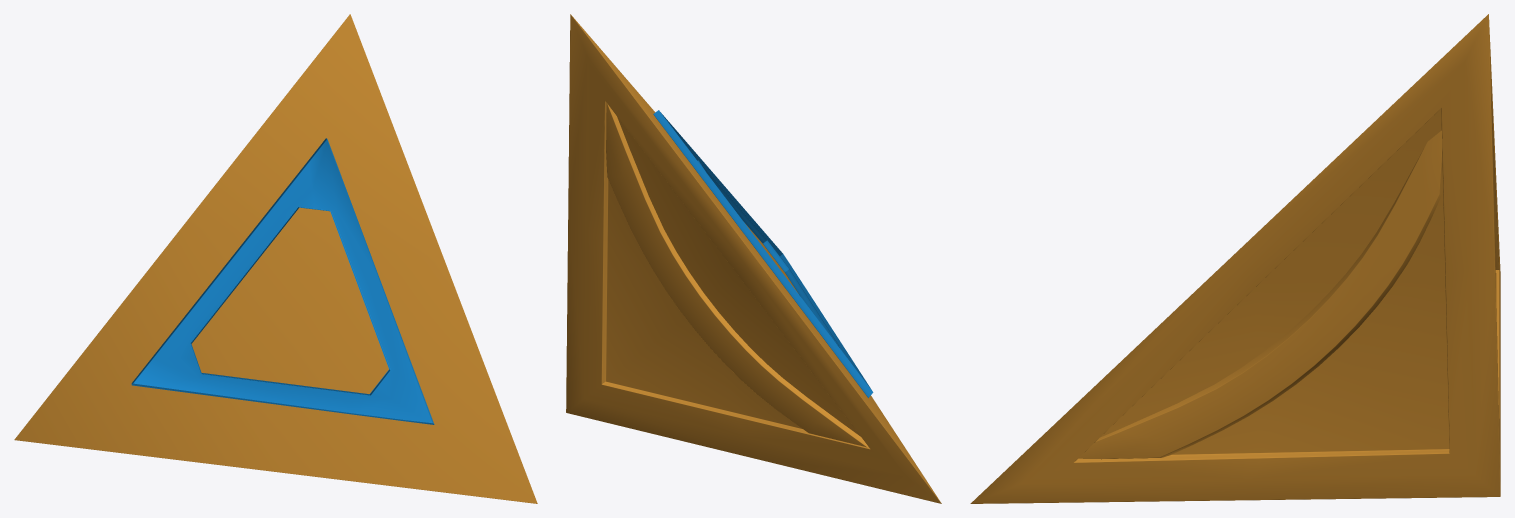
File: esquina_1.obj
3 views of the same model, side by side, from view 1: azimuth 30°, elevation 25°; view 2: azimuth 150°, elevation 25°; view 3: azimuth 270°, elevation 25° (orthographic). The views are drawn at different scales.
Parts seen in each view (by area): view 1: esquina_1; view 2: esquina_1; view 3: esquina_1.
Part boxes in pixels (<box>): esquina_1: <box>14,14,537,503</box>; esquina_1: <box>566,14,941,503</box>; esquina_1: <box>970,14,1500,503</box>.
Bounding box in the file's own units: 5.17 × 5.23 × 5.13.
